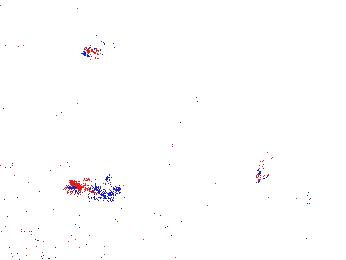X-ray fish: (246, 151, 285, 183)
red belly glassfish: (64, 178, 124, 200), (287, 176, 314, 206), (80, 39, 118, 60)
